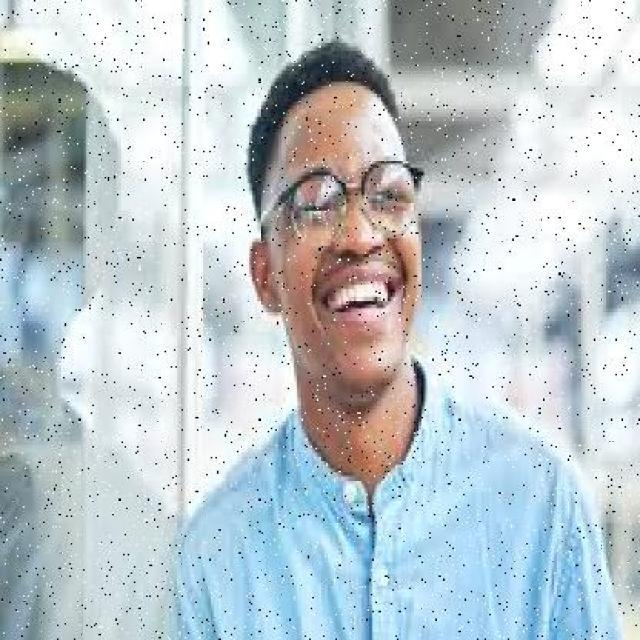mask: (278, 148, 429, 258)
